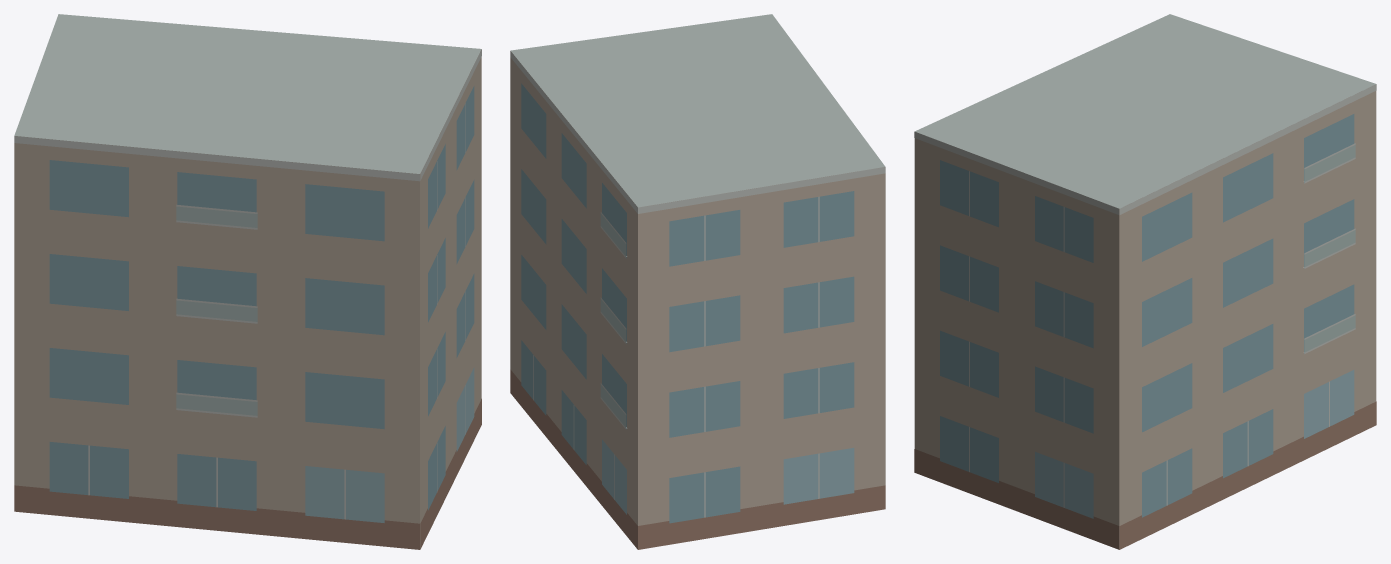
The model's file is survey-upis-32748086.glb.
3 renders of one model, left to right at view 1: azimuth 30°, elevation 25°; view 2: azimuth 150°, elevation 25°; view 3: azimuth 270°, elevation 25°, orthographic. The views are drawn at different scales.
Visible parts, largest first — view 1: survey-upis-32748086.tmp; view 2: survey-upis-32748086.tmp; view 3: survey-upis-32748086.tmp.
Part boxes in pixels (x1,y1,x2,y2): survey-upis-32748086.tmp: (14,14,481,549); survey-upis-32748086.tmp: (510,14,885,549); survey-upis-32748086.tmp: (914,14,1376,549).
Size of the model in its own units: 15.68 by 12.8 by 15.72.
